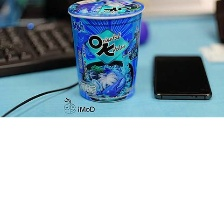paper_cup: (62, 0, 148, 106)
phone: (148, 50, 214, 104)
